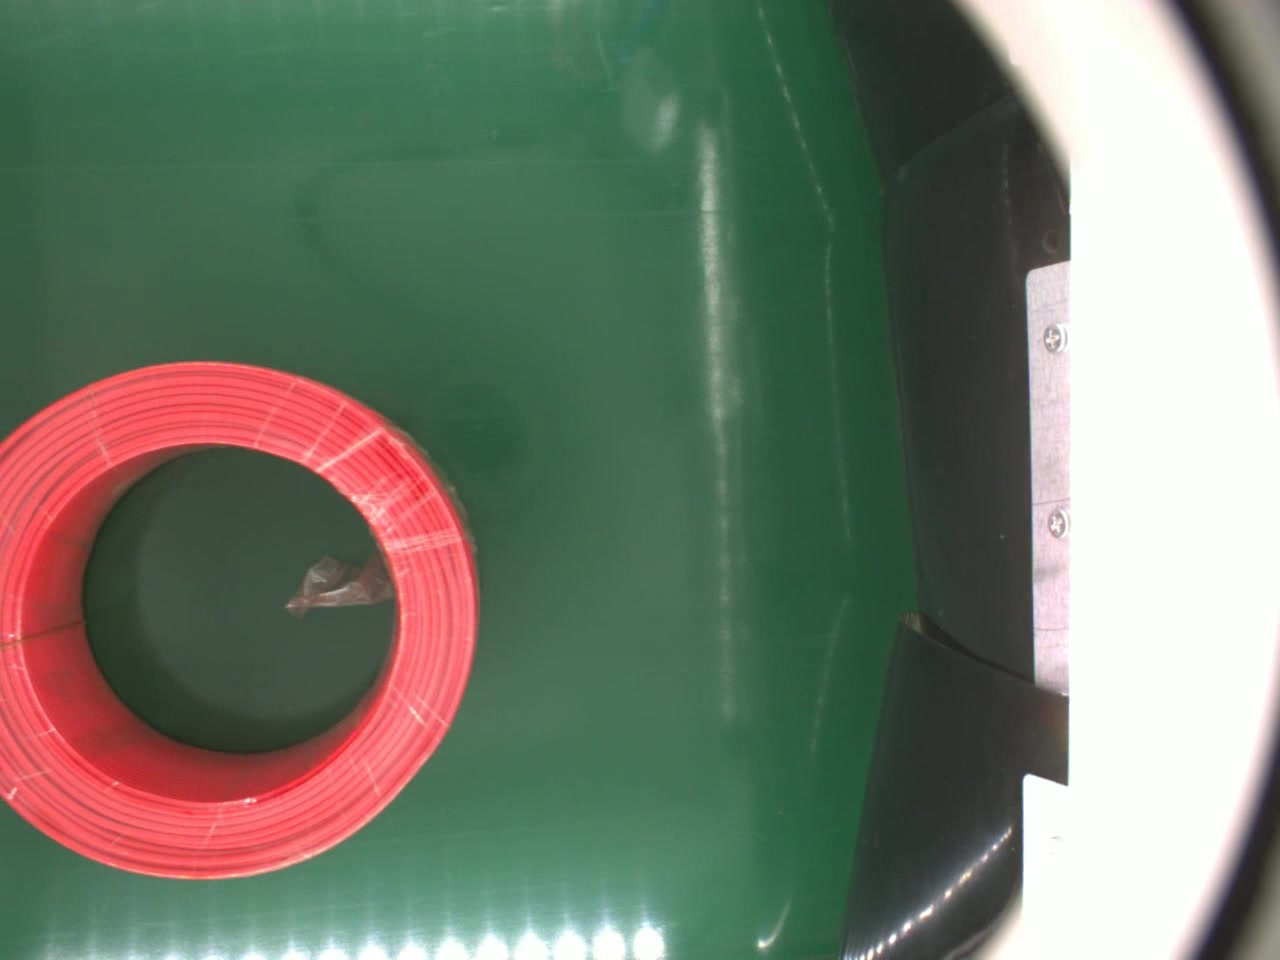red: (0, 358, 480, 884)
